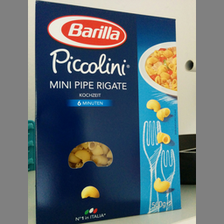pasta: (35, 1, 183, 223)
